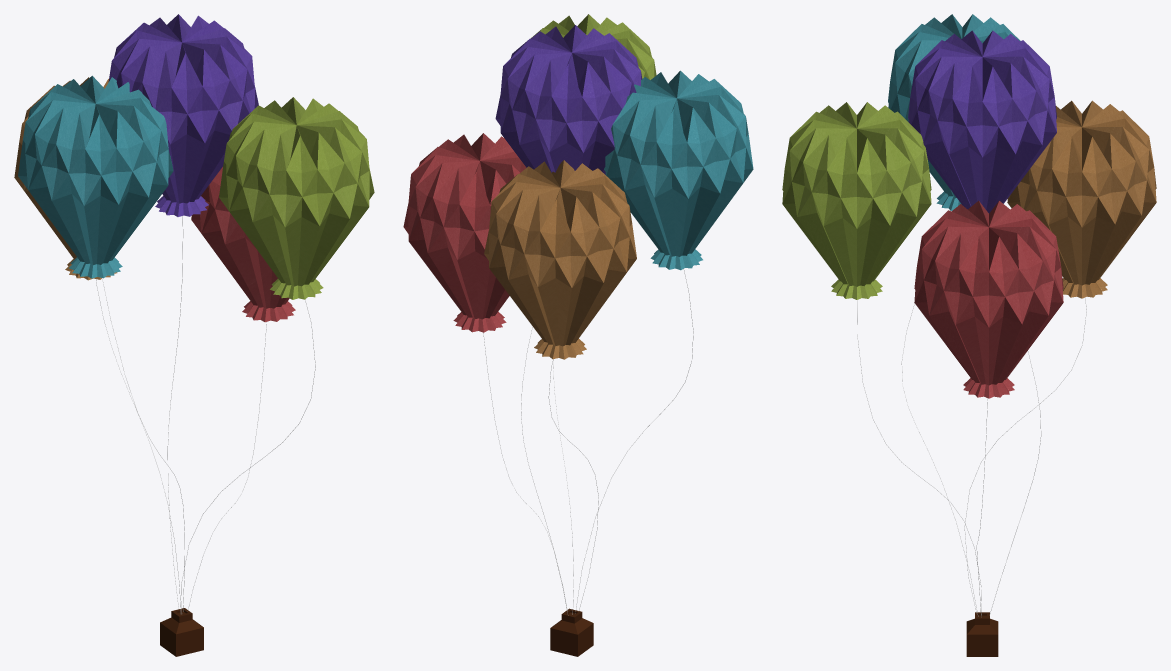
The model's file is AN_3D_Balloons.fbx.
3 views of the same model, side by side, from view 1: azimuth 30°, elevation 25°; view 2: azimuth 150°, elevation 25°; view 3: azimuth 270°, elevation 25° (orthographic). The views are drawn at different scales.
Parts seen in each view (by area): view 1: AN_3D_Balloons; view 2: AN_3D_Balloons; view 3: AN_3D_Balloons.
Boxes of the visible parts, left/top/right/bottom form: AN_3D_Balloons: left=14, top=14, right=374, bottom=656; AN_3D_Balloons: left=403, top=14, right=753, bottom=656; AN_3D_Balloons: left=782, top=14, right=1156, bottom=656.
Size of the model in its own units: 259 by 472 by 266.
Materials: 7 (5 with a texture image).
